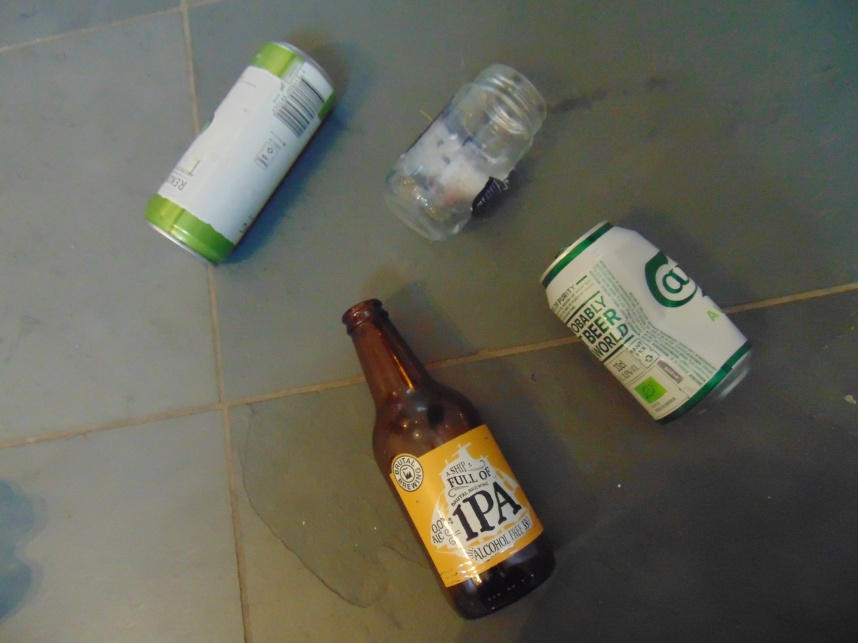glass_bottle: (343, 297, 557, 622), (382, 61, 549, 243)
metal_can: (539, 220, 755, 426), (145, 39, 336, 270)
